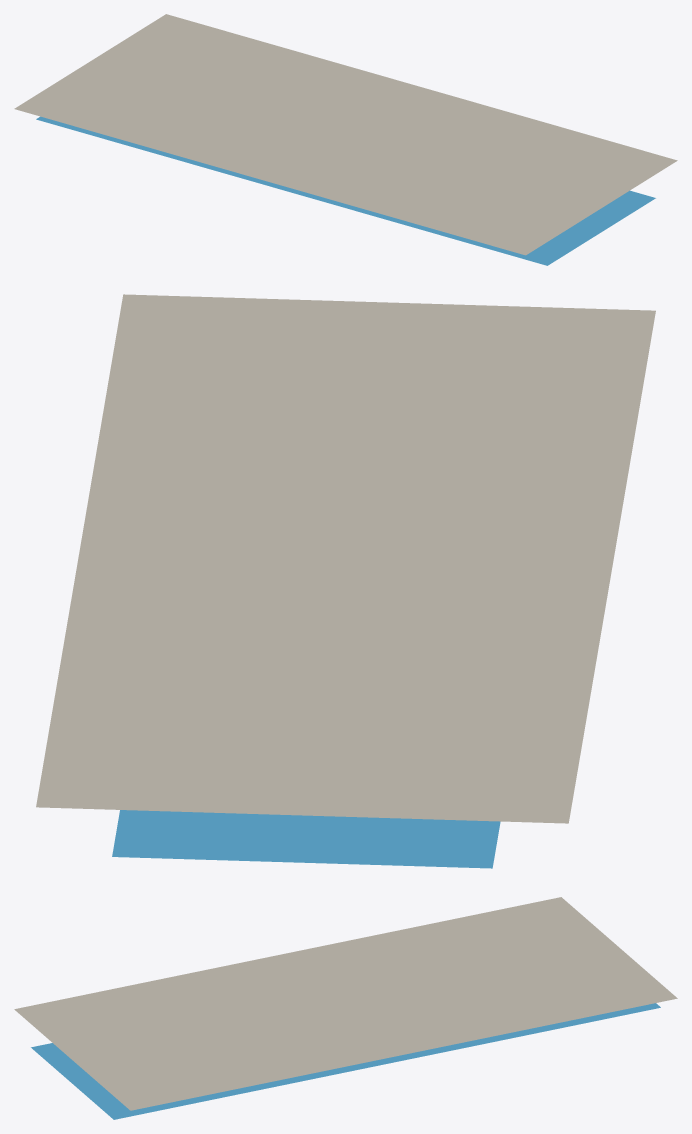
3 views of the same model, one above another, from view 1: azimuth 30°, elevation 25°; view 2: azimuth 150°, elevation 25°; view 3: azimuth 270°, elevation 25° (orthographic). The views are drawn at different scales.
Parts seen in each view (by area): view 1: estructura_terreno, estructura_agua; view 2: estructura_terreno, estructura_agua; view 3: estructura_terreno, estructura_agua.
Part boxes in pixels (x1,y1,x2,y2): estructura_terreno: [14, 14, 677, 255]; estructura_agua: [36, 116, 655, 265]; estructura_terreno: [36, 294, 655, 823]; estructura_agua: [112, 810, 500, 868]; estructura_terreno: [14, 897, 677, 1110]; estructura_agua: [31, 1003, 660, 1119].
Size of the model in its own units: 7.96 by 0.41 by 10.44.
